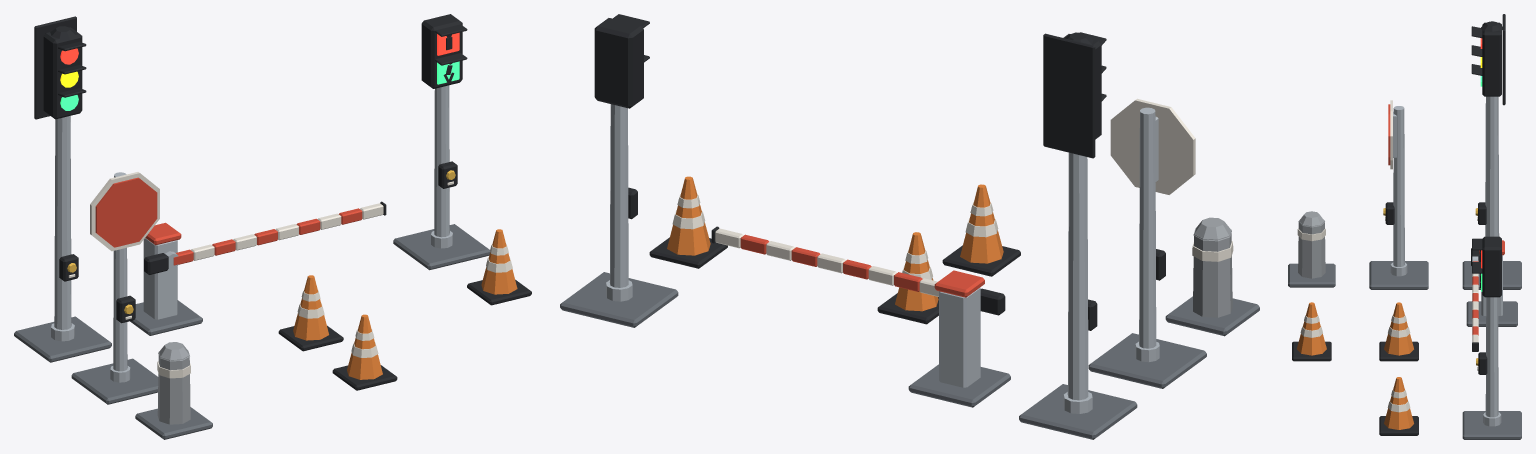
Rendered from low-poly-traffic-props.glb.
The picture shows the model from 3 angles, left to right: view 1: azimuth 30°, elevation 25°; view 2: azimuth 150°, elevation 25°; view 3: azimuth 270°, elevation 25°; orthographic projection. The views are drawn at different scales.
Parts seen in each view (by area): view 1: StopSign_Face, TrafficLight_Pole, Arm, PedestrianSignal_BasePlate, TrafficLight_BasePlate, StopSign_BasePlate, TrafficLight_Head, PedestrianSignal_Pole, RoadBarrier_Post, Bollard_Body, PedestrianSignal_Head, StopSign_Pole (+11 smaller); view 2: TrafficLight_Backplate, TrafficLight_Pole, StopSign_Border, PedestrianSignal_Head, StopSign_Pole, RoadBarrier_Post, Arm, StopSign_BasePlate, PedestrianSignal_Pole, PedestrianSignal_BasePlate, TrafficLight_BasePlate, Bollard_Body (+11 smaller); view 3: TrafficLight_Pole, StopSign_Pole, PedestrianSignal_Pole, StopSign_BasePlate, PedestrianSignal_BasePlate, TrafficLight_Head, Bollard_Body, PedestrianSignal_Head, TrafficLight_BasePlate, Bollard_BasePlate, TrafficCone_2_Body, TrafficCone_3_Body (+9 smaller).
Part boxes in pixels (left/top/right/bottom): StopSign_Face: left=95, top=177, right=157, bottom=247; TrafficLight_Pole: left=54, top=116, right=71, bottom=329; Arm: left=173, top=203, right=383, bottom=265; PedestrianSignal_BasePlate: left=393, top=224, right=490, bottom=270; TrafficLight_BasePlate: left=14, top=316, right=111, bottom=362; StopSign_BasePlate: left=71, top=358, right=158, bottom=404; TrafficLight_Head: left=43, top=27, right=82, bottom=119; PedestrianSignal_Pole: left=434, top=85, right=449, bottom=237; RoadBarrier_Post: left=143, top=238, right=177, bottom=319; Bollard_Body: left=157, top=350, right=190, bottom=424; PedestrianSignal_Head: left=421, top=14, right=462, bottom=88; StopSign_Pole: left=113, top=172, right=127, bottom=371; TrafficLight_Backplate: left=1043, top=33, right=1095, bottom=158; TrafficLight_Pole: left=1067, top=152, right=1088, bottom=400; StopSign_Border: left=1110, top=98, right=1195, bottom=194; PedestrianSignal_Head: left=594, top=18, right=643, bottom=108; StopSign_Pole: left=1139, top=107, right=1156, bottom=348; RoadBarrier_Post: left=939, top=287, right=980, bottom=387; Arm: left=715, top=228, right=938, bottom=296; StopSign_BasePlate: left=1088, top=333, right=1206, bottom=388; PedestrianSignal_Pole: left=609, top=104, right=628, bottom=287; PedestrianSignal_BasePlate: left=560, top=272, right=678, bottom=327; TrafficLight_BasePlate: left=1019, top=384, right=1137, bottom=439; Bollard_Body: left=1193, top=228, right=1232, bottom=317; TrafficLight_Pole: left=1485, top=96, right=1499, bottom=236; StopSign_Pole: left=1393, top=106, right=1404, bottom=266; PedestrianSignal_Pole: left=1485, top=297, right=1498, bottom=417; StopSign_BasePlate: left=1369, top=261, right=1428, bottom=289; PedestrianSignal_BasePlate: left=1462, top=411, right=1521, bottom=439; TrafficLight_Head: left=1482, top=22, right=1501, bottom=96; Bollard_Body: left=1298, top=220, right=1325, bottom=278; PedestrianSignal_Head: left=1482, top=236, right=1501, bottom=297; TrafficLight_BasePlate: left=1462, top=261, right=1521, bottom=289; Bollard_BasePlate: left=1288, top=263, right=1335, bottom=287; TrafficCone_2_Body: left=1384, top=377, right=1413, bottom=429; TrafficCone_3_Body: left=1297, top=302, right=1326, bottom=355.
Bounding box in the file's own units: 21.07 × 14.3 × 11.82.
